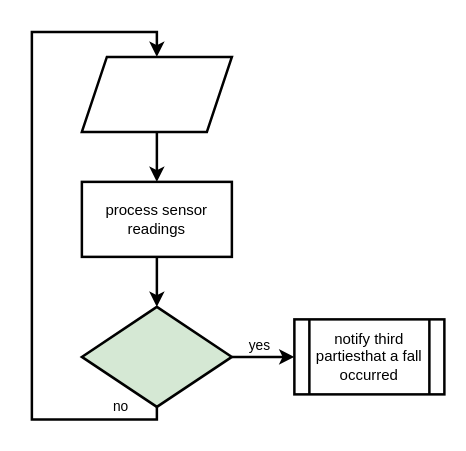
Some shapes in this 466 by 451 pixel diagram are drawn without their labels. Here are the shapes that lost their labels. From the top down, the centre of each, then its label:
At point 156,93: "read sensors".
At point 156,356: "fall detected?".
